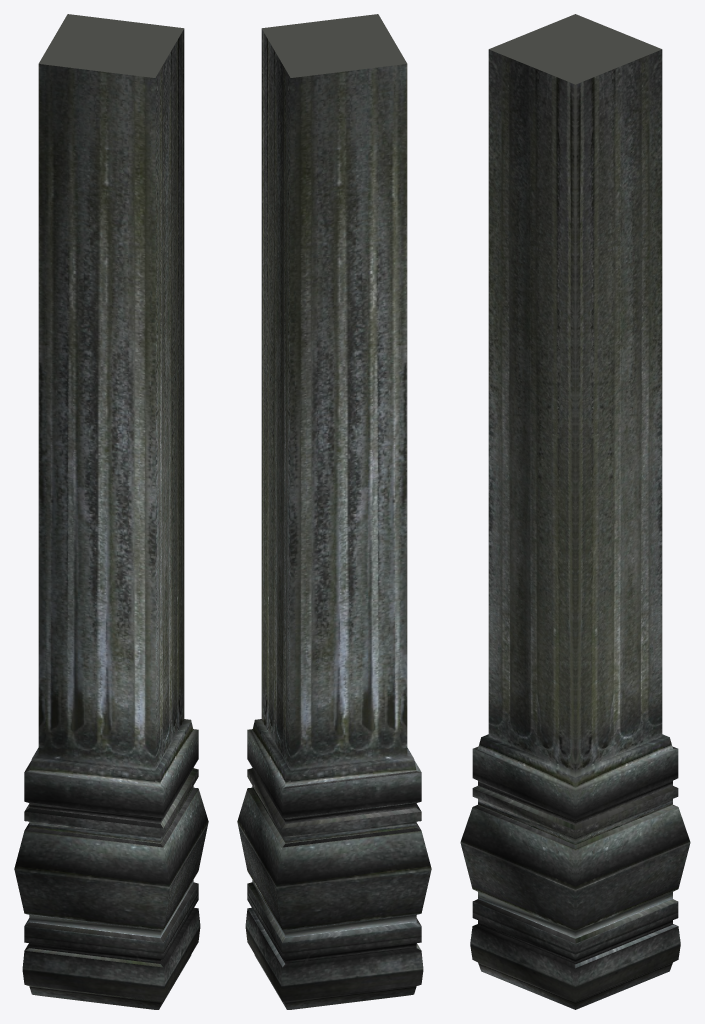
Rendered from Pillar_fbx.fbx.
The picture shows the model from 3 angles, left to right: view 1: azimuth 30°, elevation 25°; view 2: azimuth 150°, elevation 25°; view 3: azimuth 270°, elevation 25°; orthographic projection.
Visible parts, largest first — view 1: Pillar_Mesh; view 2: Pillar_Mesh; view 3: Pillar_Mesh.
Boxes of the visible parts, left/top/right/bottom form: Pillar_Mesh: left=14, top=14, right=208, bottom=1009; Pillar_Mesh: left=237, top=14, right=431, bottom=1009; Pillar_Mesh: left=460, top=14, right=690, bottom=1009.
Bounding box in the file's own units: 0.3907 × 1.79 × 0.4036.
